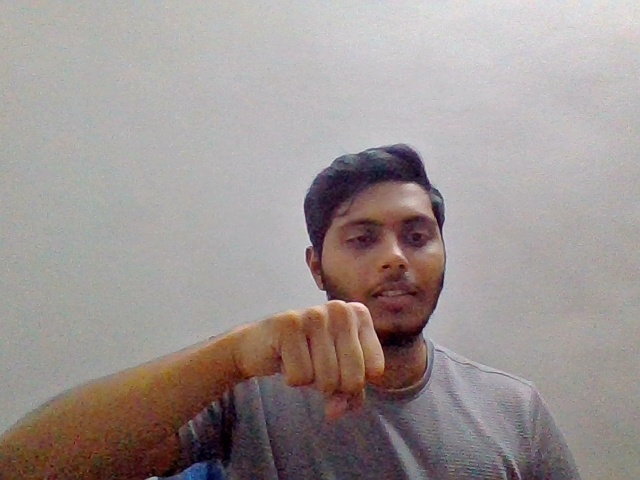Yes: (220, 295, 391, 424)
